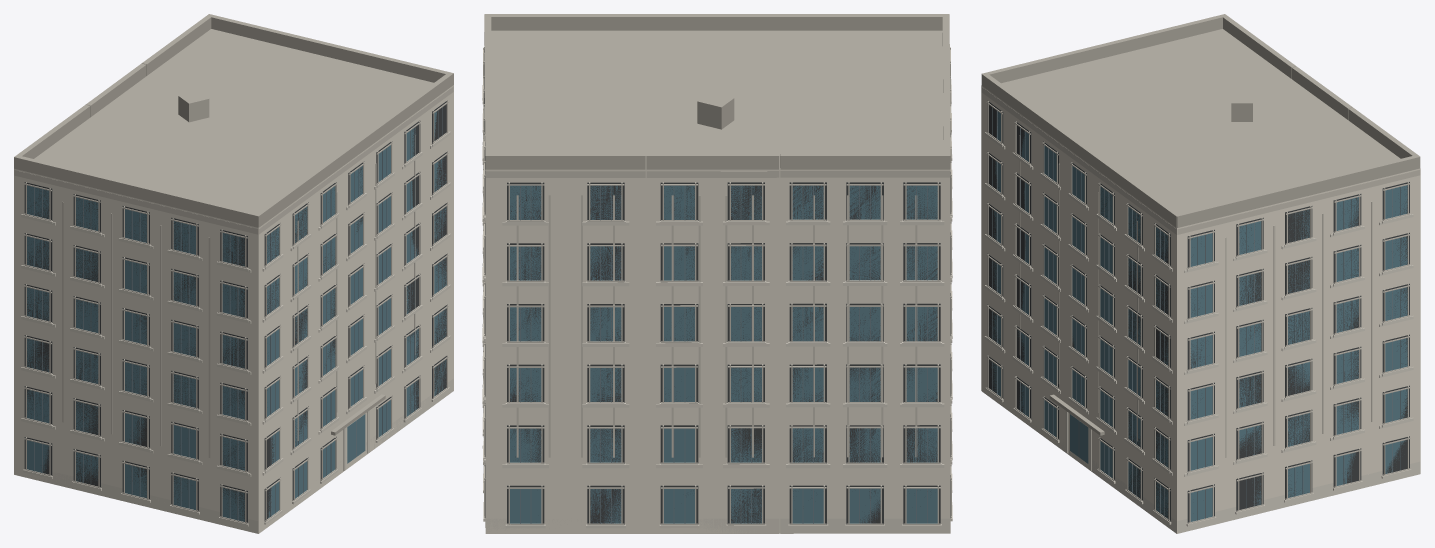
Rendered from cop_residencial_orla_02__way_488128340.fbx.
3 views of the same model, side by side, from view 1: azimuth 30°, elevation 25°; view 2: azimuth 150°, elevation 25°; view 3: azimuth 270°, elevation 25° (orthographic). The views are drawn at different scales.
Parts seen in each view (by area): view 1: cop_residencial_orla_02__way_488128340_wall, cop_residencial_orla_02__way_488128340_roof, cop_residencial_orla_02__way_488128340_glass, cop_residencial_orla_02__way_488128340_shadow, cop_residencial_orla_02__way_488128340_trim, cop_residencial_orla_02__way_488128340_stone, cop_residencial_orla_02__way_488128340_metal; view 2: cop_residencial_orla_02__way_488128340_wall, cop_residencial_orla_02__way_488128340_roof, cop_residencial_orla_02__way_488128340_glass, cop_residencial_orla_02__way_488128340_shadow, cop_residencial_orla_02__way_488128340_trim, cop_residencial_orla_02__way_488128340_stone, cop_residencial_orla_02__way_488128340_metal; view 3: cop_residencial_orla_02__way_488128340_wall, cop_residencial_orla_02__way_488128340_roof, cop_residencial_orla_02__way_488128340_glass, cop_residencial_orla_02__way_488128340_shadow, cop_residencial_orla_02__way_488128340_trim, cop_residencial_orla_02__way_488128340_stone, cop_residencial_orla_02__way_488128340_metal.
Part boxes in pixels (box(x1,y1,x2,y2)): cop_residencial_orla_02__way_488128340_wall: box(14, 85, 453, 533); cop_residencial_orla_02__way_488128340_roof: box(14, 14, 453, 435); cop_residencial_orla_02__way_488128340_glass: box(27, 111, 446, 521); cop_residencial_orla_02__way_488128340_shadow: box(24, 100, 447, 523); cop_residencial_orla_02__way_488128340_trim: box(14, 86, 453, 523); cop_residencial_orla_02__way_488128340_stone: box(18, 131, 453, 533); cop_residencial_orla_02__way_488128340_metal: box(34, 107, 442, 520); cop_residencial_orla_02__way_488128340_wall: box(485, 169, 950, 533); cop_residencial_orla_02__way_488128340_roof: box(484, 14, 950, 169); cop_residencial_orla_02__way_488128340_glass: box(510, 185, 937, 523); cop_residencial_orla_02__way_488128340_shadow: box(484, 47, 950, 524); cop_residencial_orla_02__way_488128340_trim: box(483, 46, 951, 525); cop_residencial_orla_02__way_488128340_stone: box(482, 85, 952, 533); cop_residencial_orla_02__way_488128340_metal: box(520, 185, 927, 523); cop_residencial_orla_02__way_488128340_wall: box(981, 85, 1420, 533); cop_residencial_orla_02__way_488128340_roof: box(981, 14, 1420, 435); cop_residencial_orla_02__way_488128340_glass: box(990, 111, 1407, 521); cop_residencial_orla_02__way_488128340_shadow: box(987, 100, 1409, 523); cop_residencial_orla_02__way_488128340_trim: box(981, 87, 1420, 523); cop_residencial_orla_02__way_488128340_stone: box(982, 132, 1420, 533); cop_residencial_orla_02__way_488128340_metal: box(992, 107, 1400, 520).
Bounding box in the file's own units: 2559 × 1912 × 2342.
